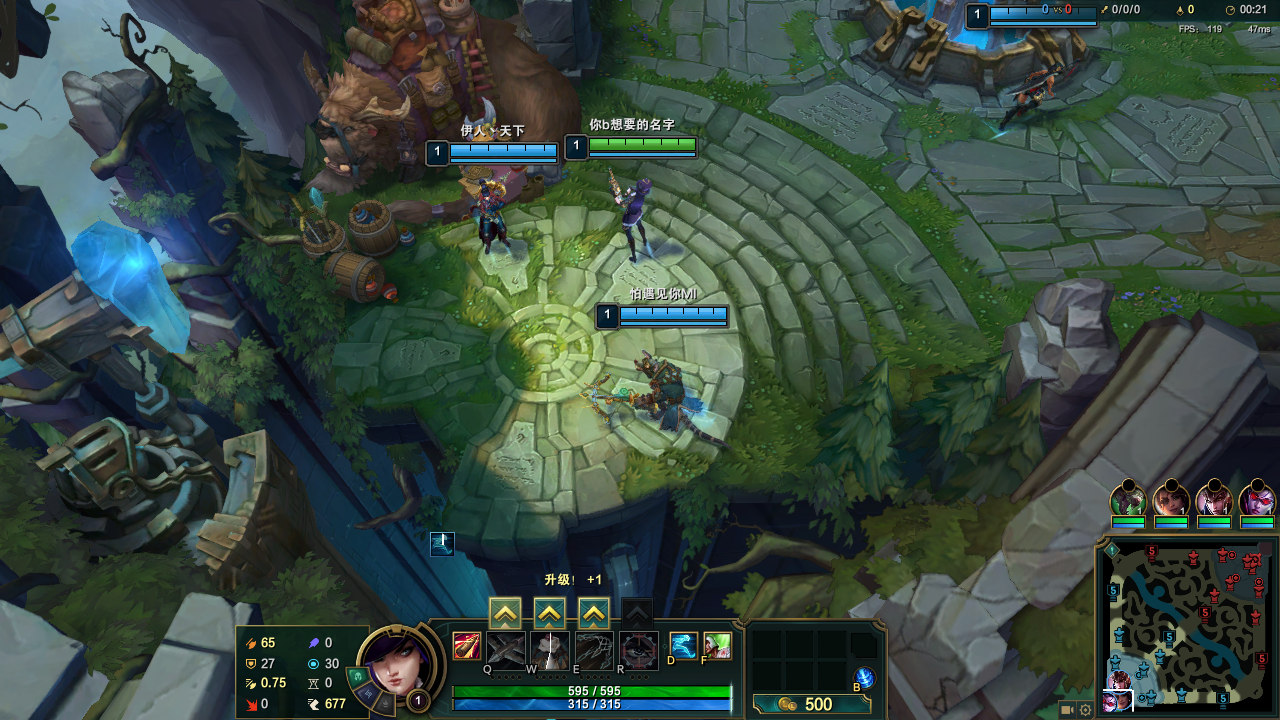Jidi: (345, 38, 556, 129)
Shenji: (581, 600, 601, 628), (538, 603, 557, 626)
Tuijianshengji: (491, 604, 516, 626)
WFSJ: (888, 11, 960, 83)
Yita: (1216, 689, 1231, 709)
